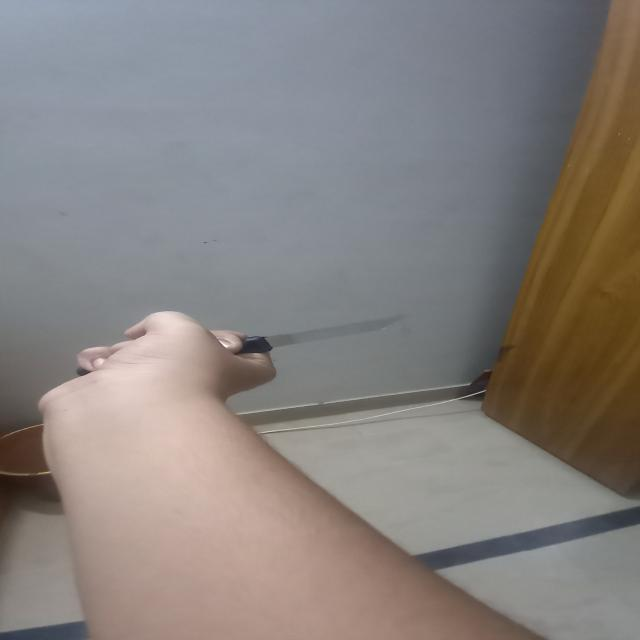Knife: (74, 310, 415, 366)
